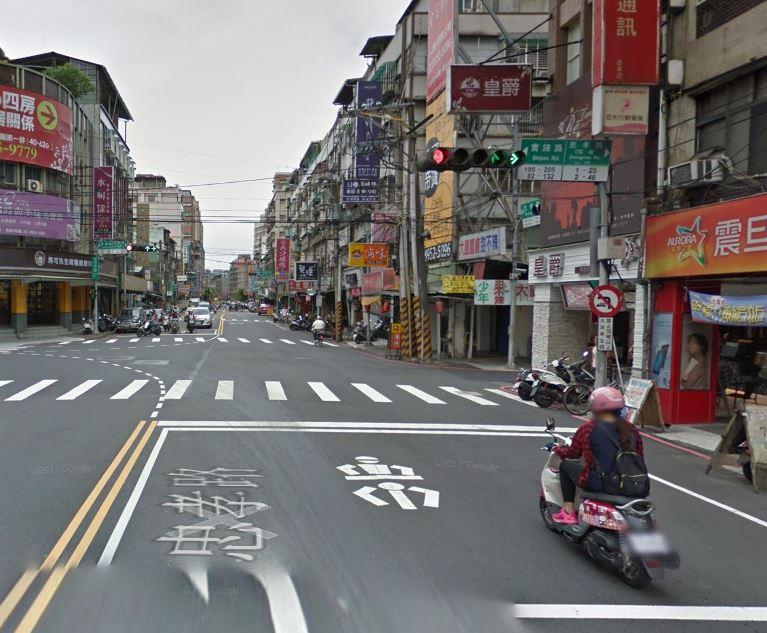red_traffic_light: (422, 145, 488, 168)
